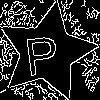P: (21, 27, 61, 76)
